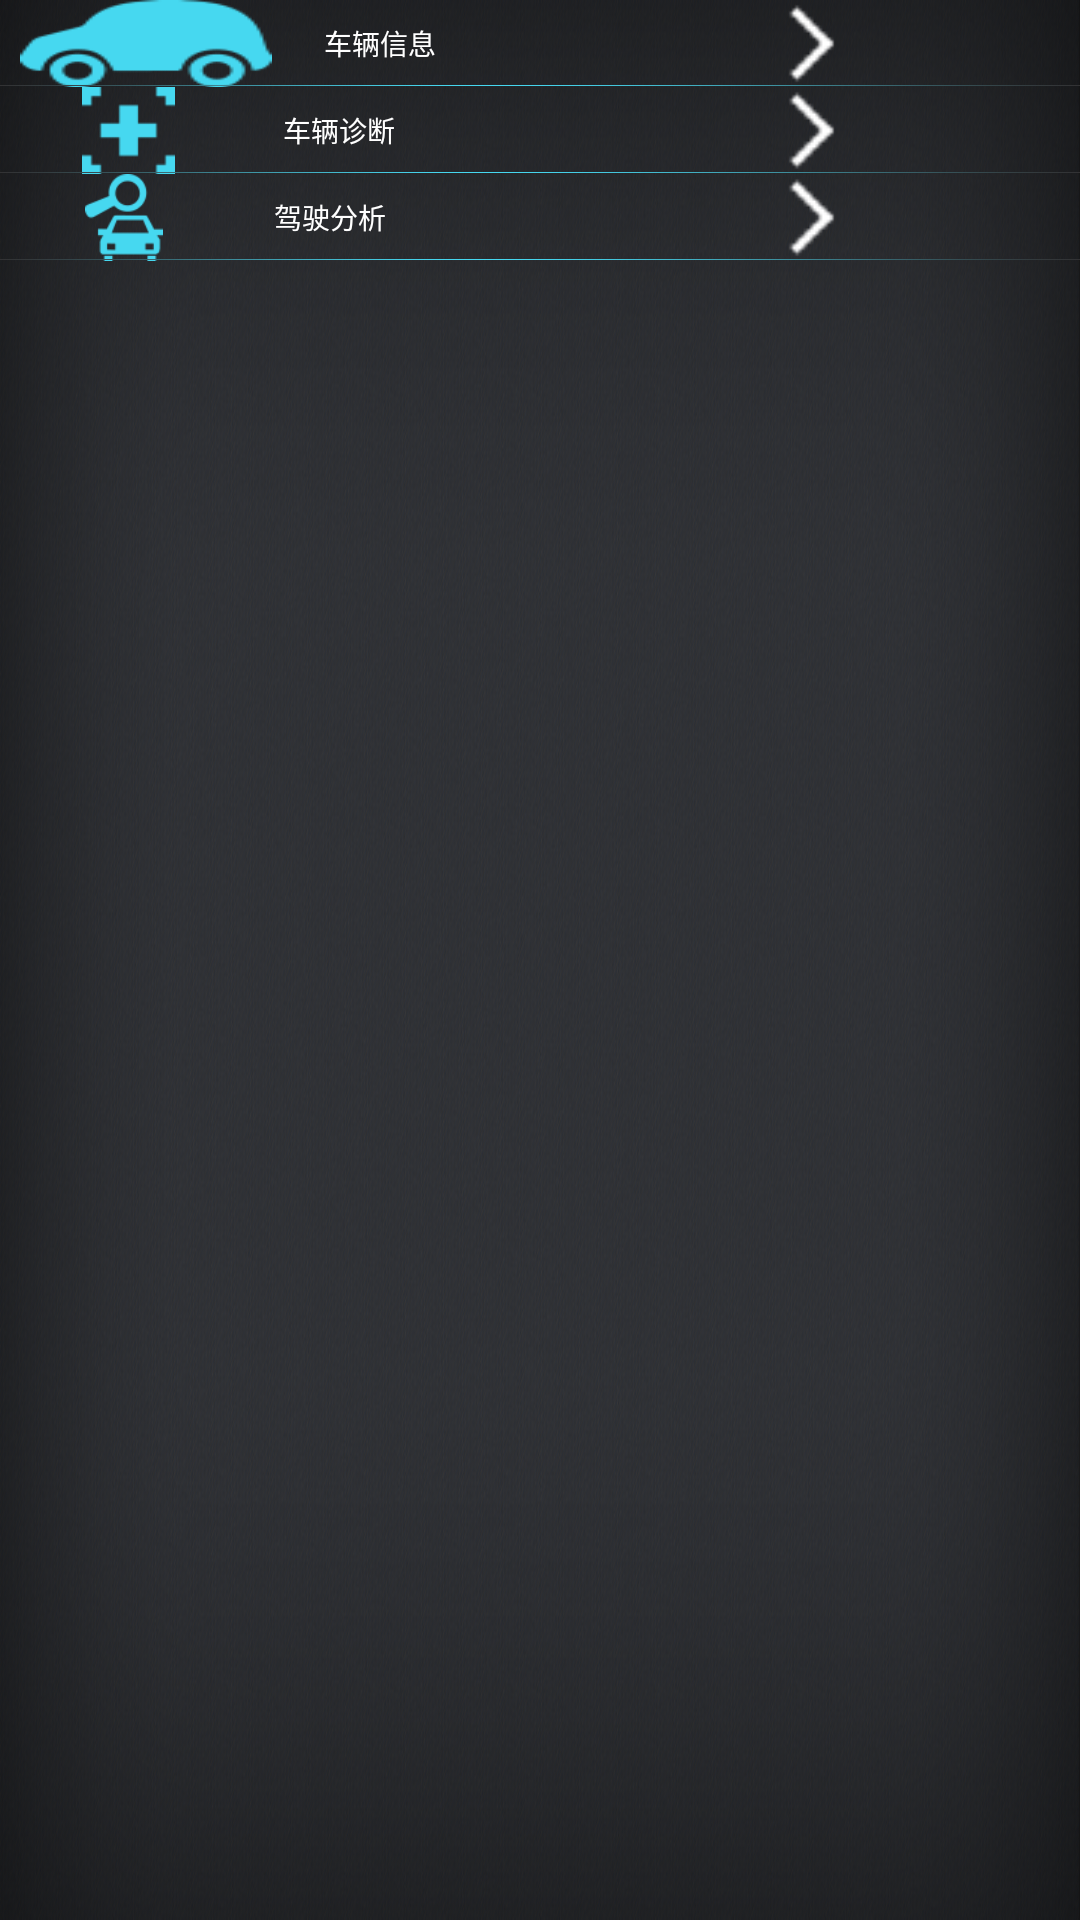

Icon click points for this 1080×1920 phone screenshot, format [x,y]:
item right disable: [811,43], [811,130], [811,217]
